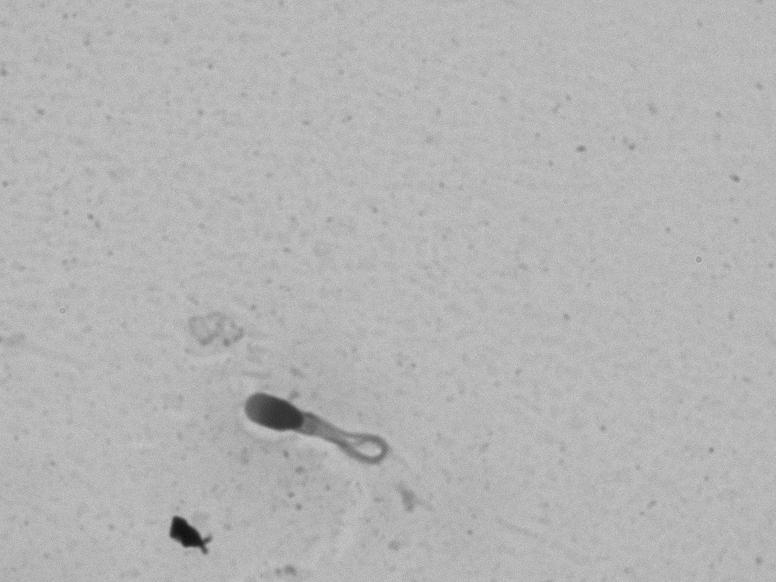Abnormal: (233, 360, 426, 482)
